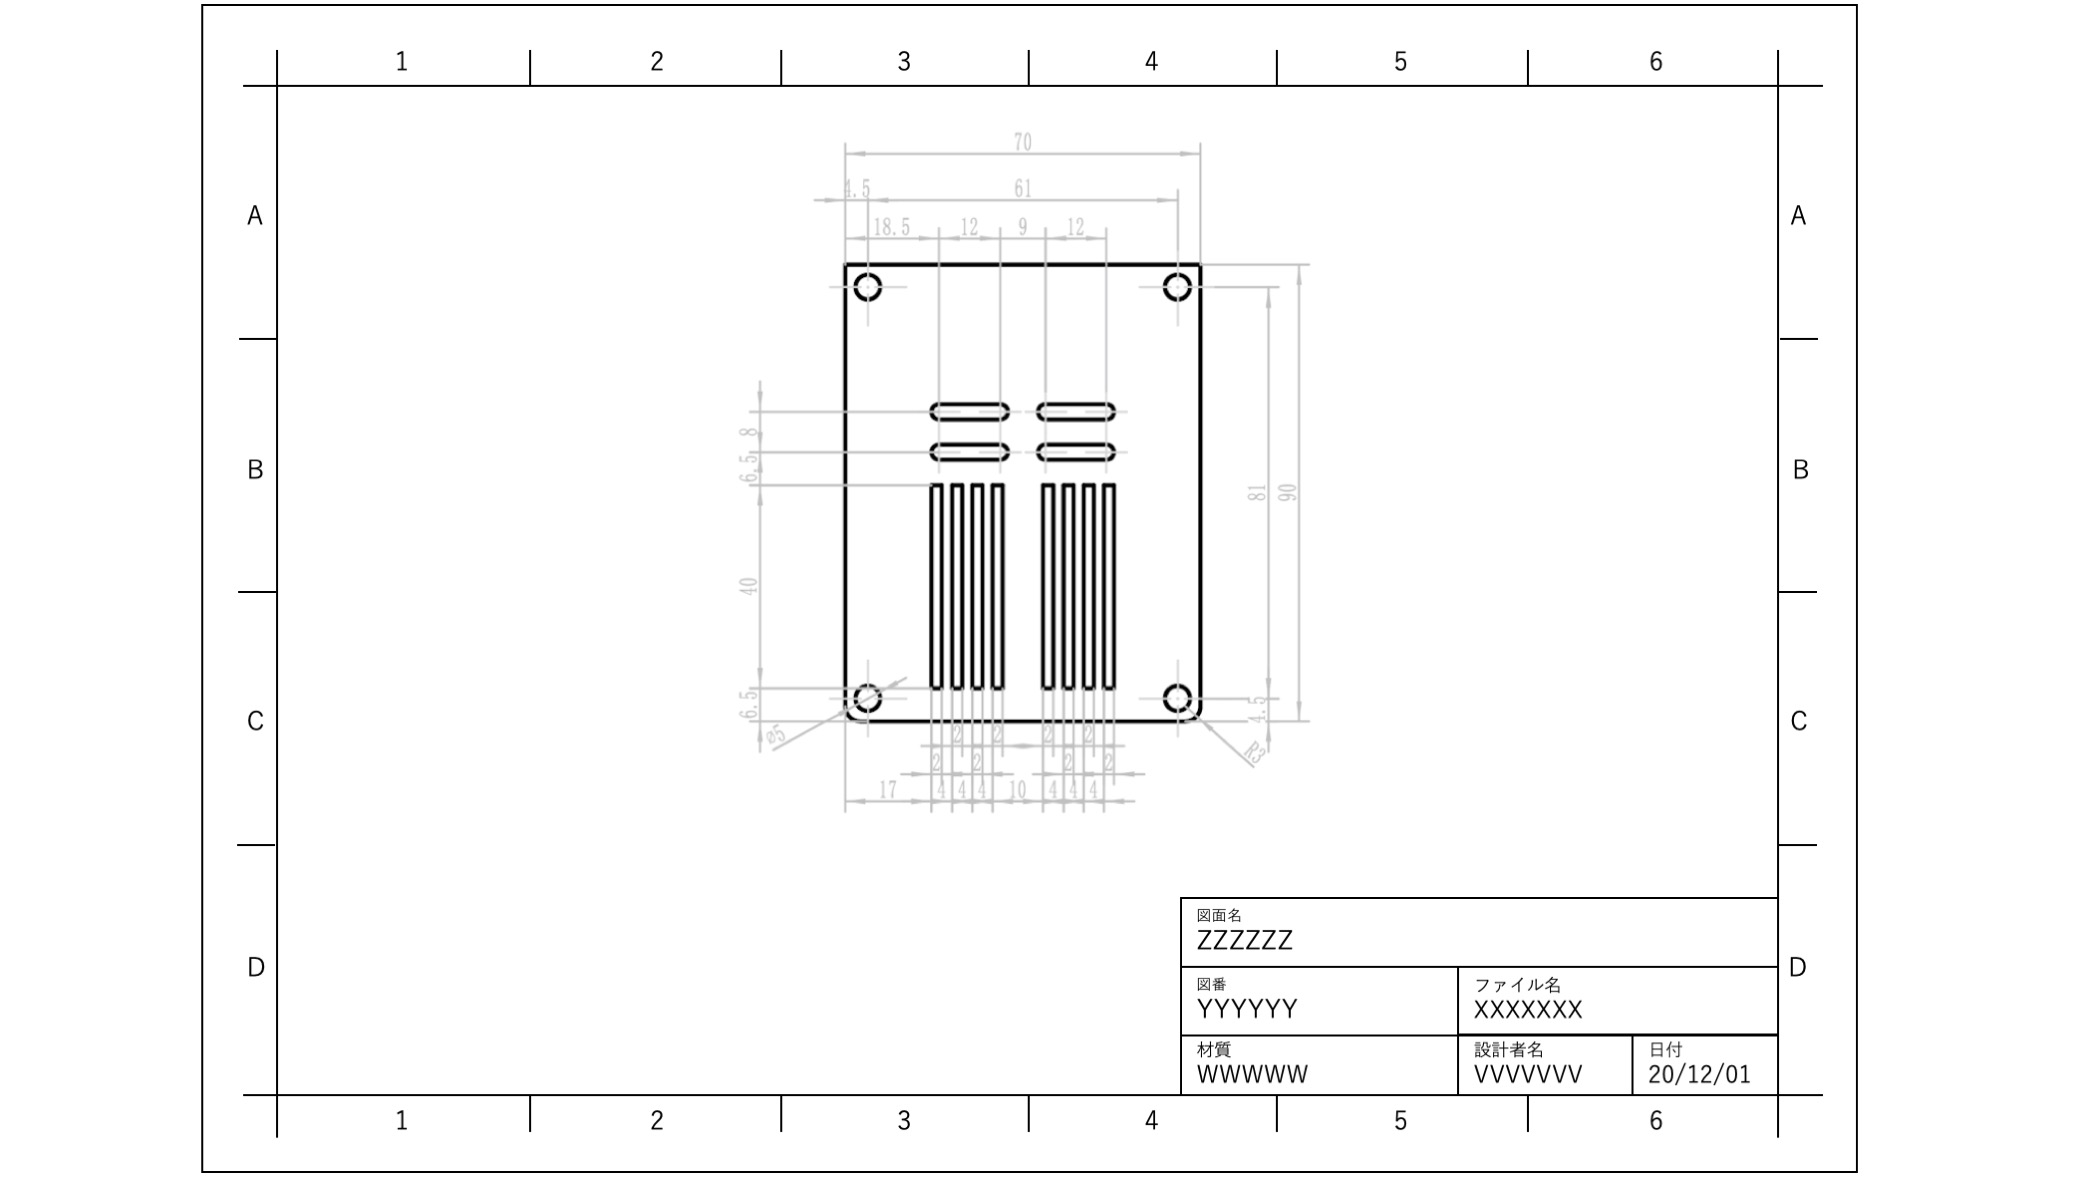circle: (1158, 676, 1194, 717), (851, 676, 883, 714), (852, 270, 887, 303), (1160, 270, 1193, 301)
rectangle: (922, 479, 946, 696), (988, 477, 1007, 692), (1040, 477, 1056, 694), (1080, 477, 1096, 691), (1100, 482, 1116, 694), (1062, 474, 1076, 694), (949, 477, 963, 694), (971, 479, 985, 694)
round_rectangle: (922, 394, 1014, 425), (1033, 395, 1121, 425), (925, 434, 1008, 464), (1031, 438, 1124, 463)
